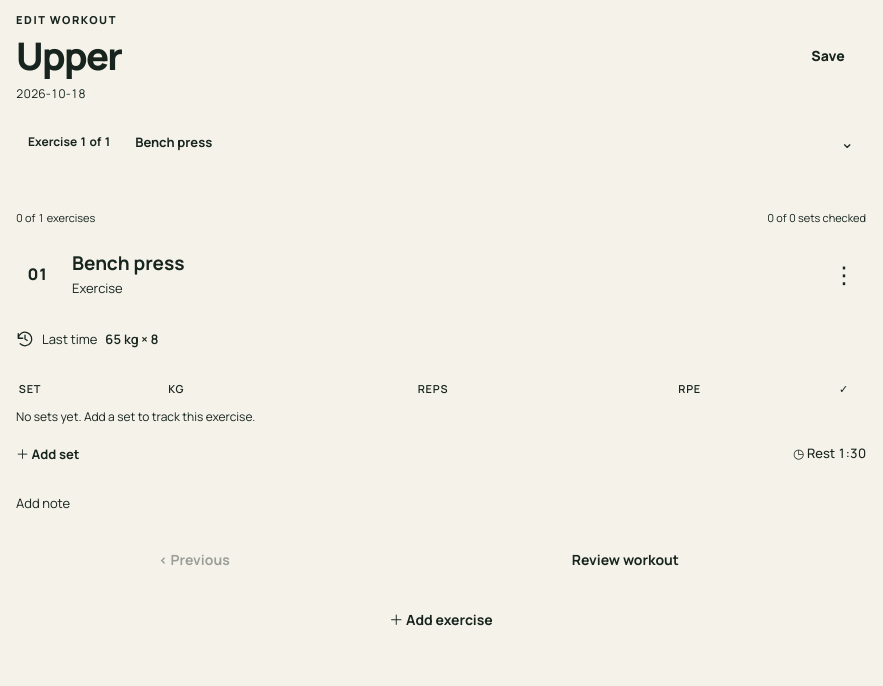
looks past zero-weight and empty sessions for the latest recorded weight
The width and height of the screenshot is (883, 686).
Expected: the text "65 kg × 8" is shown, left=105, top=330, right=158, bottom=349
Click the text "Last time" at (70, 339), box left=42, top=330, right=97, bottom=348
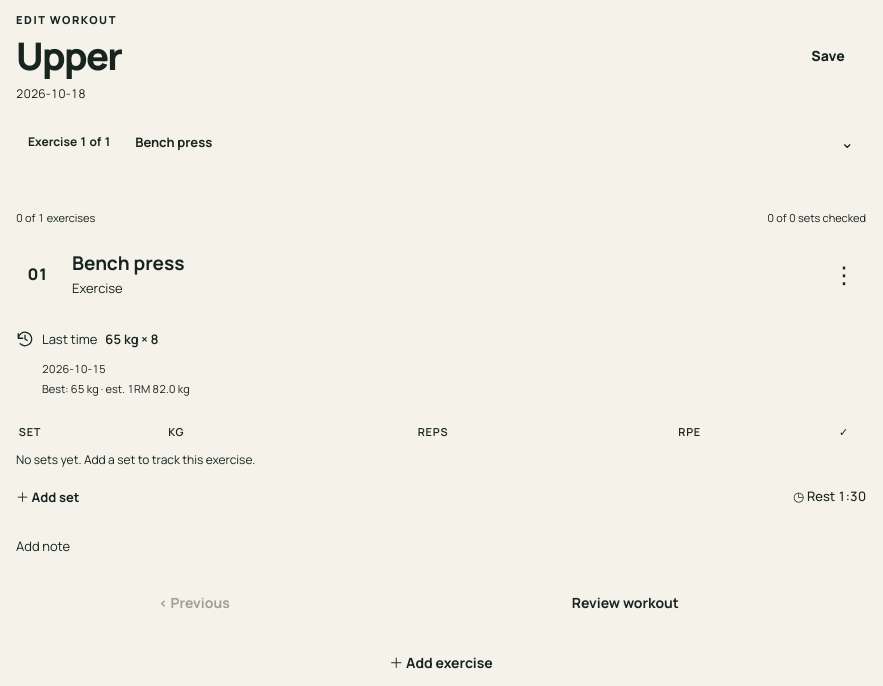
Expected: the text "2026-10-15" is shown, left=42, top=362, right=106, bottom=376
